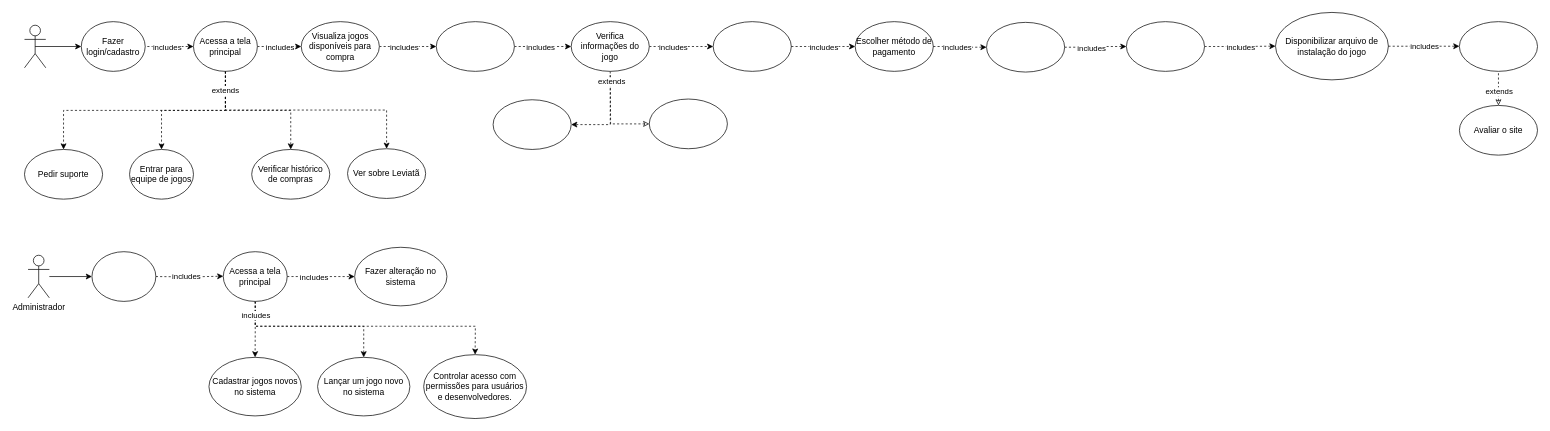
Image size: 1550x431. Some labels were removed from this diagram. Each missing label, with the centre of its shape:
"Adicionar ao carrinho" goes at (751,46).
"Avaliar" goes at (531,124).
"Cliente" goes at (35,46).
"Fazer login" goes at (123,276).
"Finalizar operação" goes at (1498,46).
"Mostrar resumo da compra" goes at (1025,47).
"Pagar" goes at (1165,46).
"Seleciona um jogo" goes at (475,46).
"Verificar avaliações" goes at (688,123).
